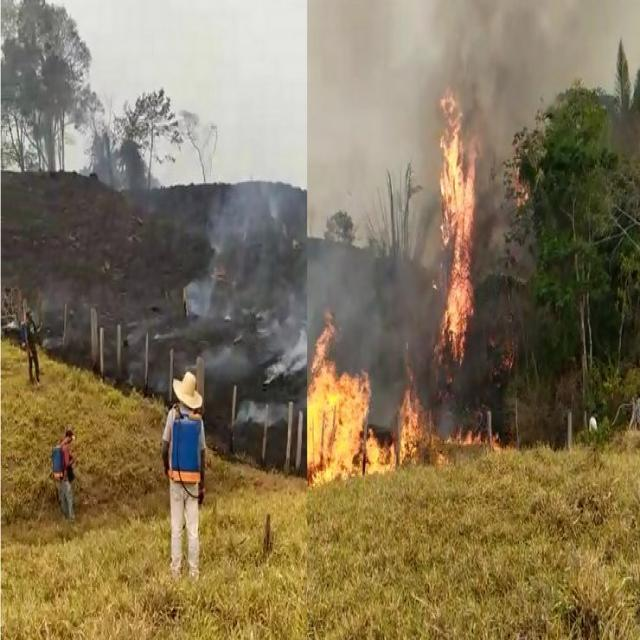Fire: (308, 308, 431, 490), (439, 88, 476, 366), (433, 424, 498, 464), (492, 331, 514, 372), (510, 172, 530, 211)
Smoke: (310, 2, 542, 80), (281, 307, 307, 369), (184, 280, 210, 313), (237, 400, 264, 424), (214, 353, 238, 379)
